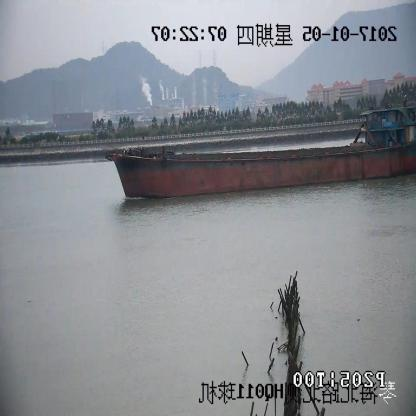Bulk Carrier: (108, 106, 416, 198)
